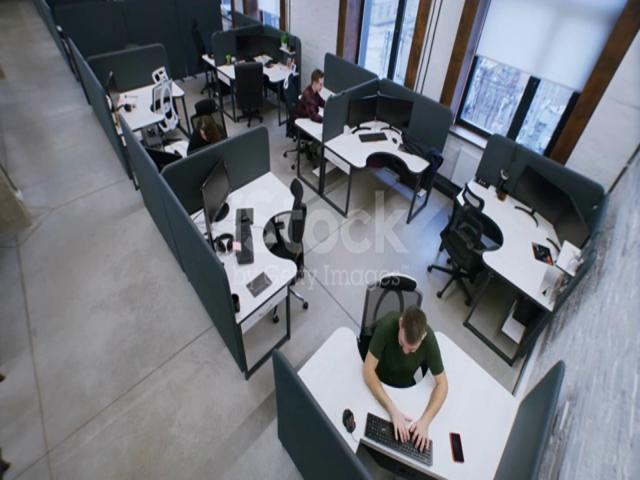empty chair: (441, 164, 488, 304), (272, 177, 315, 304), (186, 9, 228, 99), (148, 62, 184, 139), (234, 49, 267, 130)
occupiedchair: (357, 260, 445, 392), (282, 61, 338, 172), (188, 76, 228, 160)
